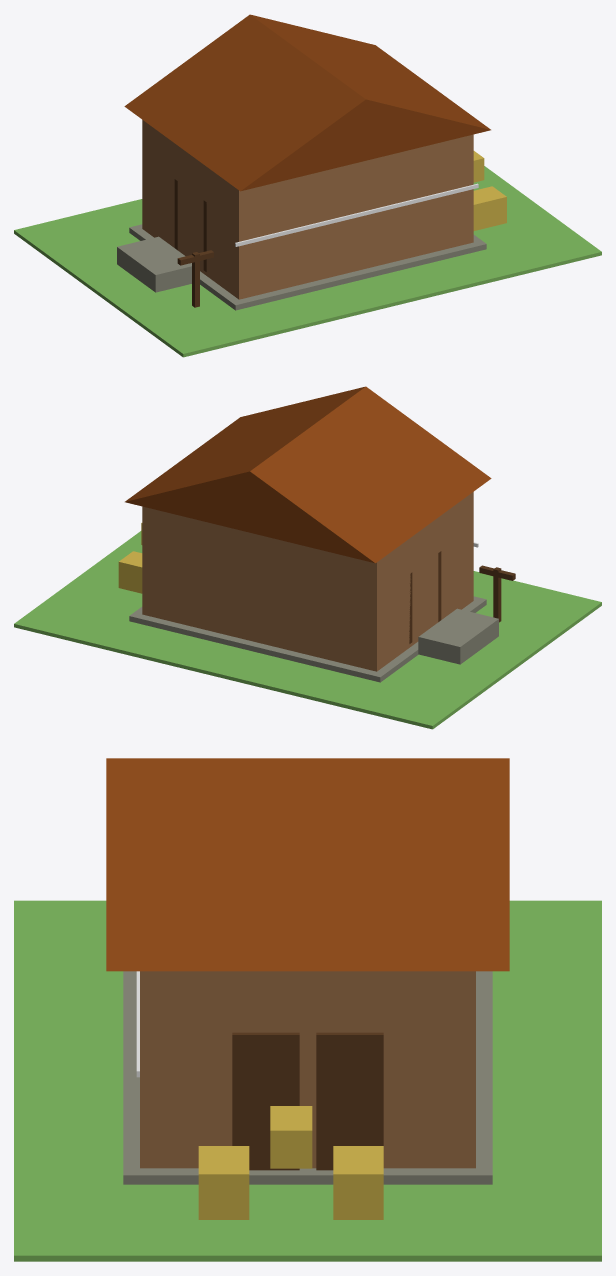
File: stable.glb
3 renders of one model, top to bottom at view 1: azimuth 30°, elevation 25°; view 2: azimuth 150°, elevation 25°; view 3: azimuth 270°, elevation 25°, orthographic. The views are drawn at different scales.
Visible parts, largest first — view 1: Roof, Barn, Ground, Foundation, Trough, HayBale1, Trim1; view 2: Roof, Barn, Ground, Foundation, Trough, HayBale2; view 3: Ground, Roof, Barn, Foundation, Door_R, Door_L, HayBale1, HayBale2, HayBale3.
Part boxes in pixels (x1=…): Roof: x1=124, y1=14, x2=490, y2=191; Barn: x1=142, y1=120, x2=473, y2=299; Ground: x1=14, y1=166, x2=601, y2=357; Foundation: x1=129, y1=224, x2=486, y2=310; Trough: x1=117, y1=236, x2=191, y2=292; HayBale1: x1=473, y1=186, x2=506, y2=230; Trim1: x1=235, y1=183, x2=478, y2=246; Roof: x1=125, y1=386, x2=491, y2=563; Barn: x1=142, y1=492, x2=473, y2=671; Ground: x1=14, y1=531, x2=601, y2=729; Foundation: x1=129, y1=596, x2=486, y2=682; Trough: x1=418, y1=608, x2=498, y2=664; HayBale2: x1=118, y1=551, x2=142, y2=593; Ground: x1=14, y1=900, x2=601, y2=1261; Roof: x1=106, y1=758, x2=509, y2=971; Barn: x1=140, y1=971, x2=475, y2=1168; Foundation: x1=123, y1=971, x2=492, y2=1184; Door_R: x1=316, y1=1032, x2=383, y2=1170; Door_L: x1=232, y1=1032, x2=299, y2=1170; HayBale1: x1=198, y1=1146, x2=249, y2=1219; HayBale2: x1=333, y1=1146, x2=383, y2=1219; HayBale3: x1=270, y1=1106, x2=312, y2=1168.
Bounding box in the file's own units: 5 × 2.14 × 3.5.
